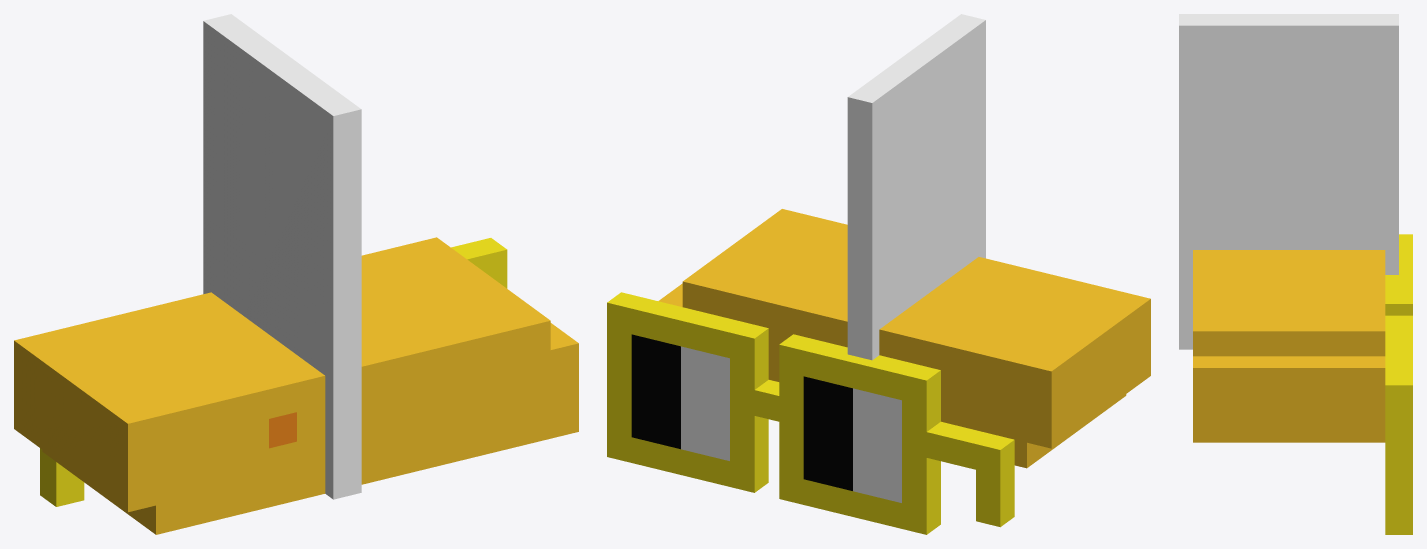
Rendered from duck.glb.
The picture shows the model from 3 angles, left to right: view 1: azimuth 30°, elevation 25°; view 2: azimuth 150°, elevation 25°; view 3: azimuth 270°, elevation 25°; orthographic projection. The views are drawn at different scales.
Parts seen in each view (by area): view 1: bec, a, monture, nose; view 2: bec, monture, a, glass (2); view 3: a, bec, monture.
Boxes of the visible parts, box(x1,y1,x2,y2) form: bec: box(14, 237, 578, 534); a: box(203, 14, 361, 499); monture: box(40, 238, 507, 506); nose: box(269, 412, 296, 448); bec: box(658, 209, 1150, 468); monture: box(607, 292, 1014, 534); a: box(847, 14, 985, 360); glass (2): box(631, 334, 901, 502); a: box(1179, 14, 1398, 349); bec: box(1193, 250, 1385, 442); monture: box(1385, 234, 1412, 534).
Bounding box in the file's own units: 17.5 × 16 × 8.5.
7 materials, 7 textured.
